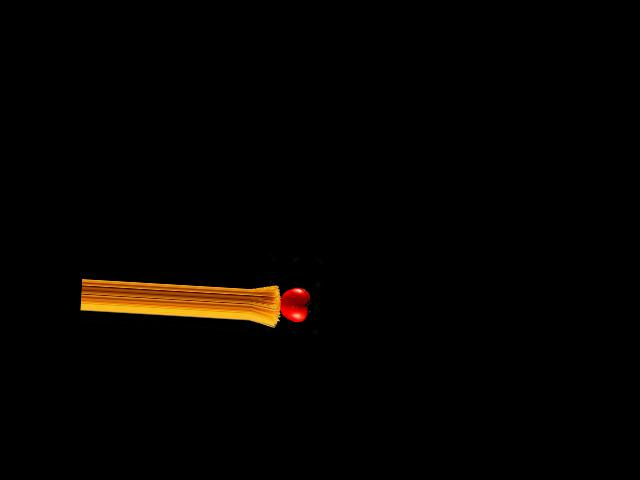tomato: (279, 287, 310, 323)
